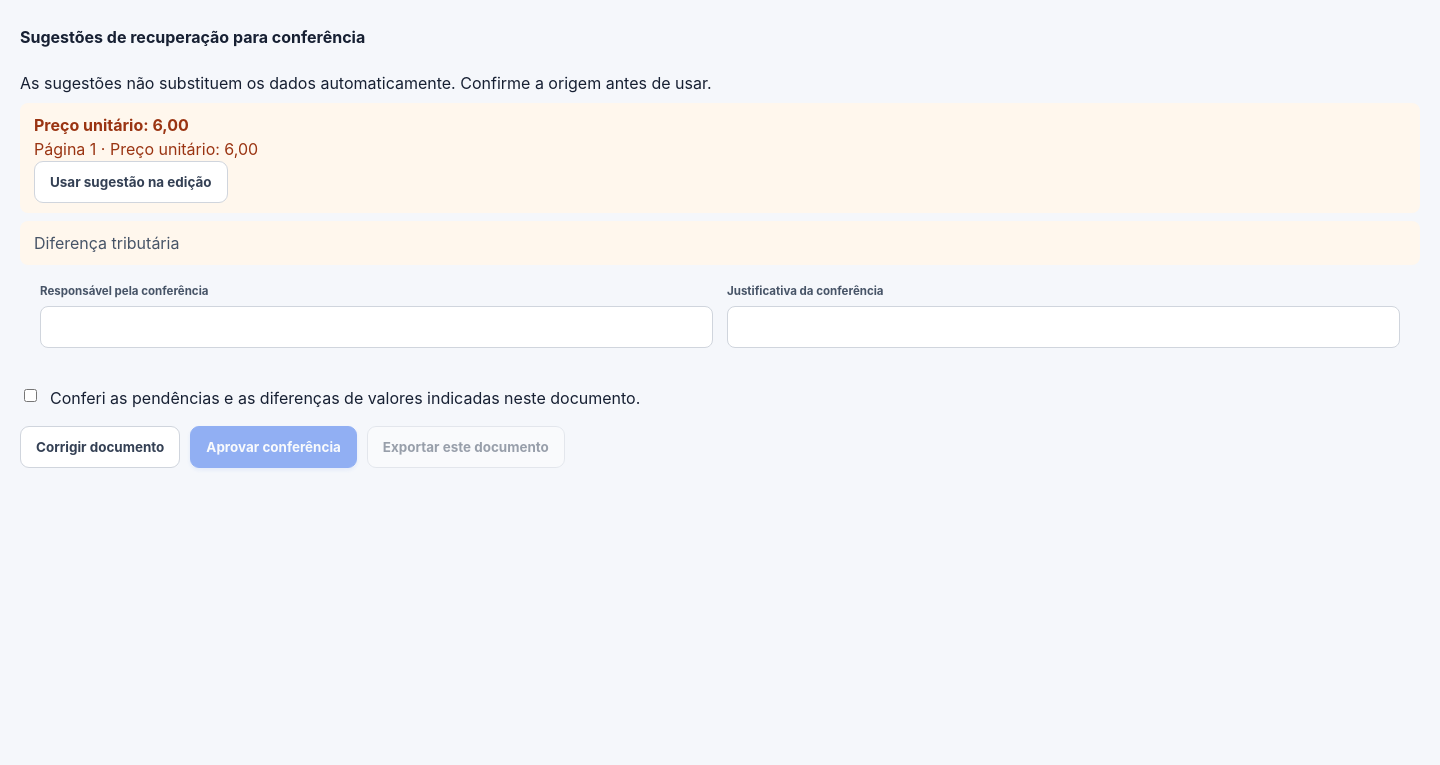
Scenario: ExtractaReview › aplica sugestão somente ao rascunho após ação explícita
Click the button "Usar sugestão na edição". click: (131, 182)
box: [34,161,228,203]
(page scrolled)
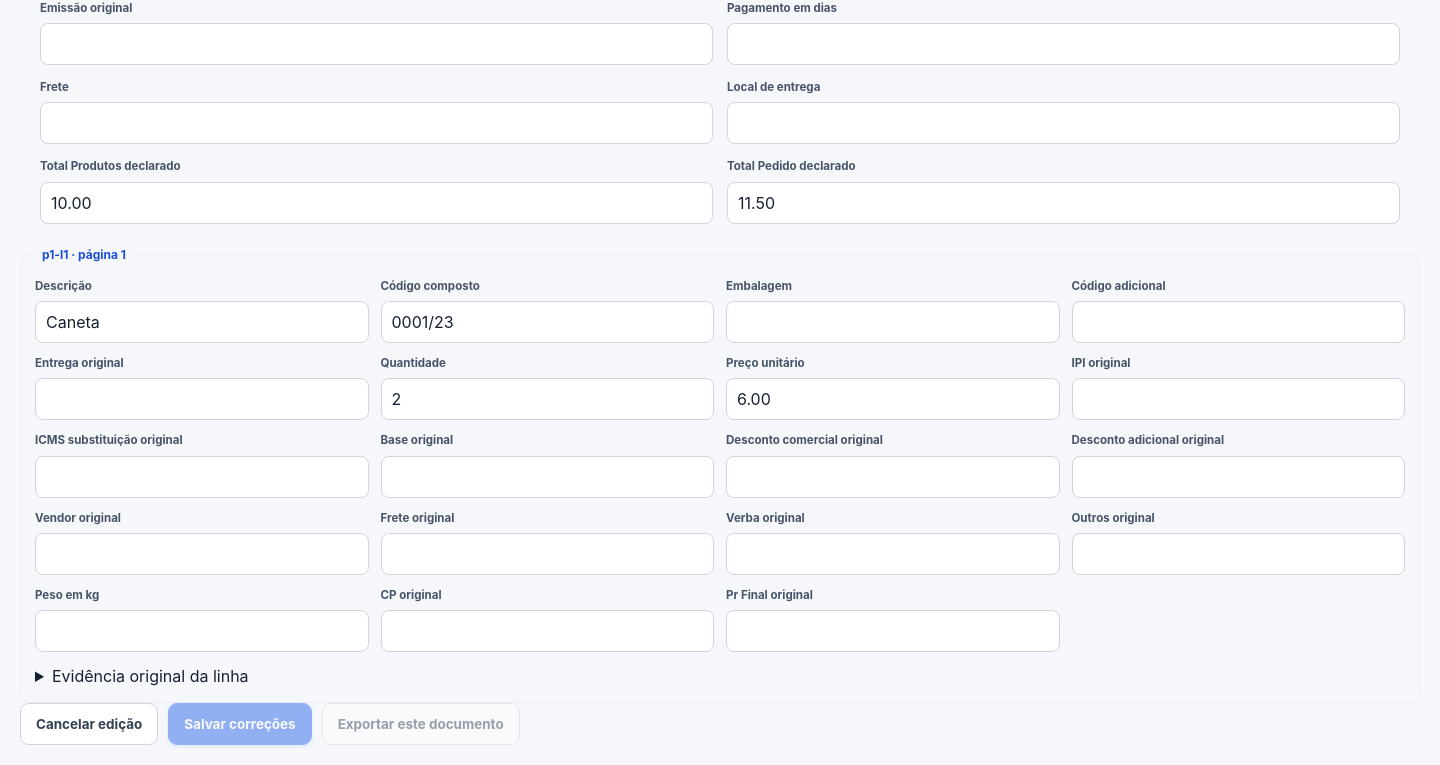
Check: the number field labelled "Preço unitário" holds "6", box [726,378,1060,420]
